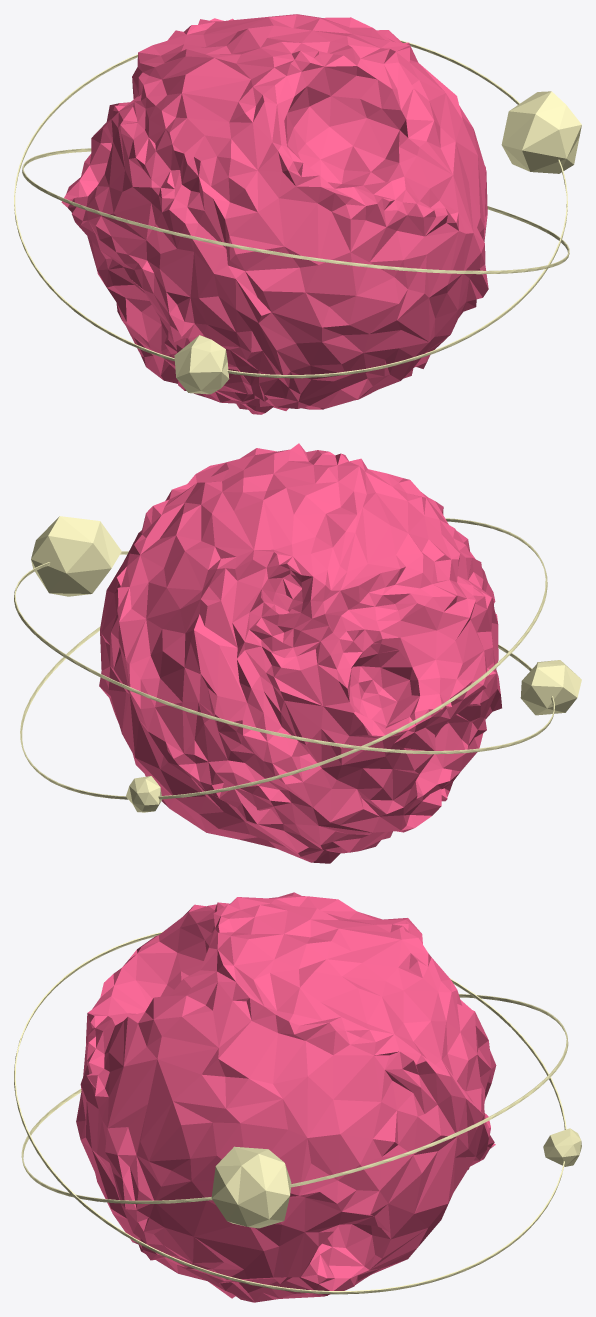
File: Planet3moonOn2rings-transformed.glb
3 views of the same model, one above another, from view 1: azimuth 30°, elevation 25°; view 2: azimuth 150°, elevation 25°; view 3: azimuth 270°, elevation 25° (orthographic).
Parts seen in each view (by area): view 1: Planet_39; view 2: Planet_39; view 3: Planet_39.
Boxes of the visible parts, x1,y1,x2,y2 form: Planet_39: (14, 14, 581, 414); Planet_39: (14, 443, 581, 863); Planet_39: (14, 892, 581, 1302).
Bounding box in the file's own units: 28.93 × 20.56 × 28.05.
1 material, 1 textured.
